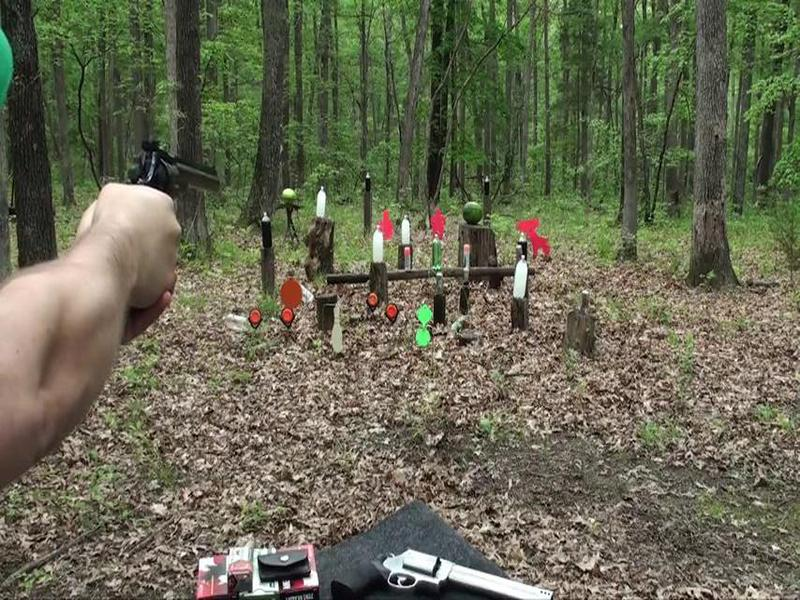Revolver: (106, 127, 237, 223)
